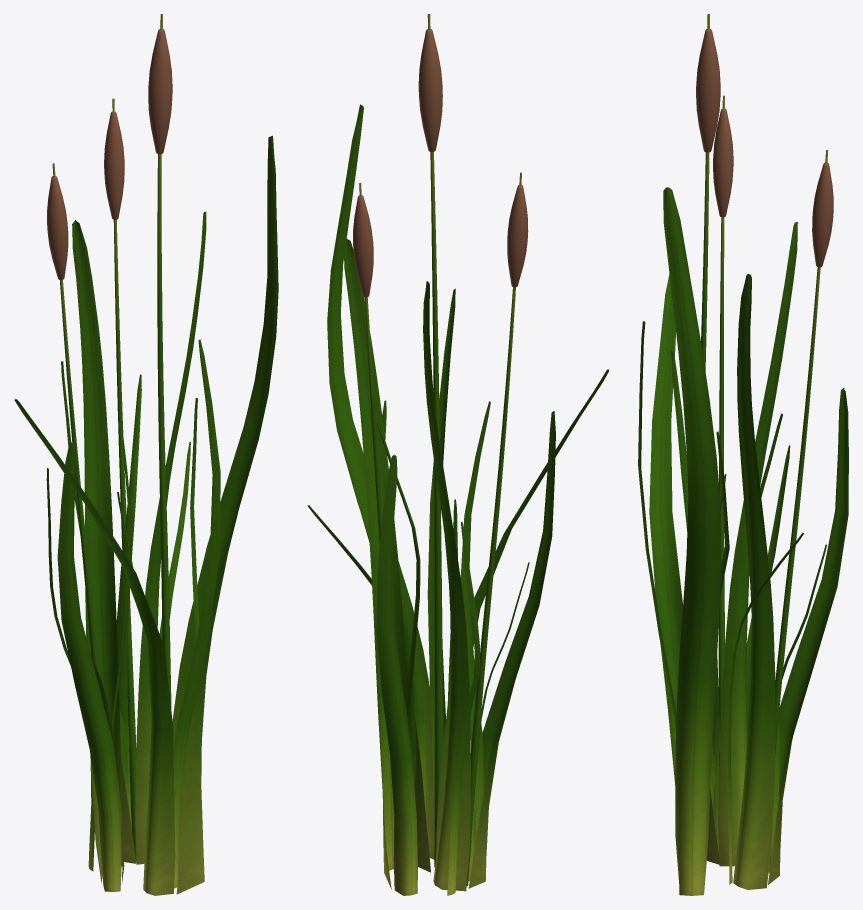
The model's file is underwater_plant.glb.
3 renders of one model, left to right at view 1: azimuth 30°, elevation 25°; view 2: azimuth 150°, elevation 25°; view 3: azimuth 270°, elevation 25°, orthographic.
Visible parts, largest first — view 1: plant_3; view 2: plant_3; view 3: plant_3.
Boxes of the visible parts, x1,y1,x2,y2 form: plant_3: (14,14,278,895); plant_3: (307,14,609,895); plant_3: (638,14,848,895).
Size of the model in its own units: 5.59 by 17.16 by 3.76.
Materials: 2 (1 with a texture image).
